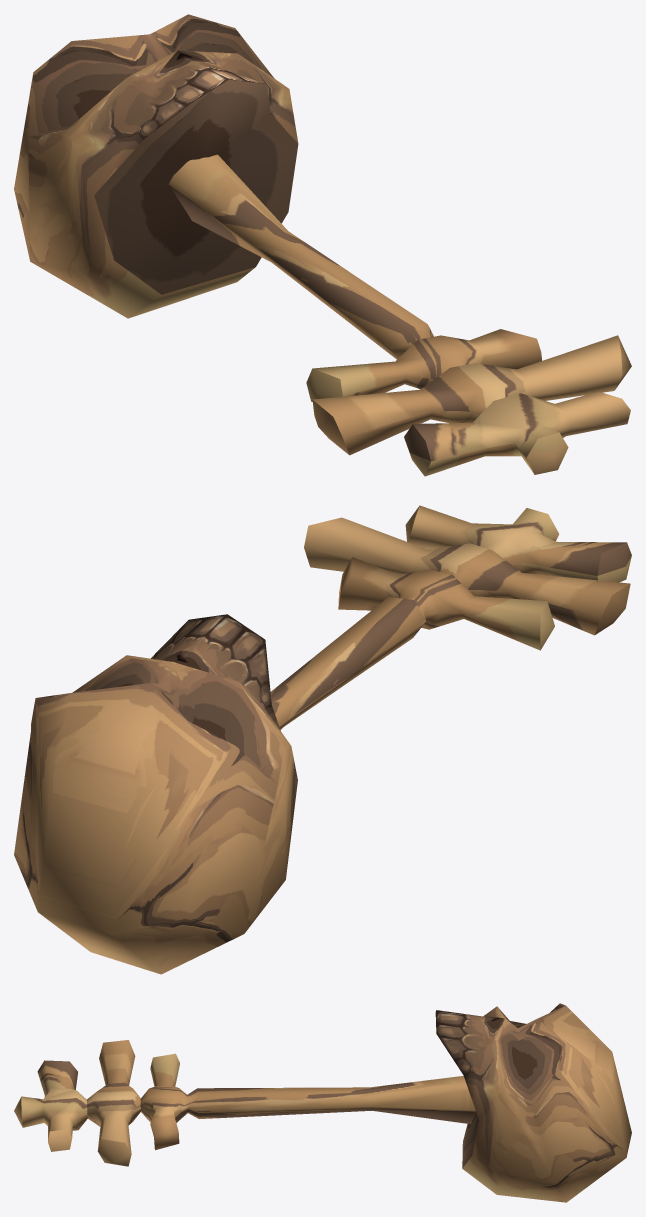
The model's file is SM_PROP_key_dungeon_01.fbx.
The picture shows the model from 3 angles, top to bottom: view 1: azimuth 30°, elevation 25°; view 2: azimuth 150°, elevation 25°; view 3: azimuth 270°, elevation 25°; orthographic projection. The views are drawn at different scales.
Visible parts, largest first — view 1: SM_PROP_key_dungeon_01; view 2: SM_PROP_key_dungeon_01; view 3: SM_PROP_key_dungeon_01.
Boxes of the visible parts, left/top/right/bottom form: SM_PROP_key_dungeon_01: left=14, top=14, right=631, bottom=476; SM_PROP_key_dungeon_01: left=14, top=505, right=631, bottom=974; SM_PROP_key_dungeon_01: left=14, top=1003, right=631, bottom=1202.
Size of the model in its own units: 9.56 by 7.97 by 24.69.
